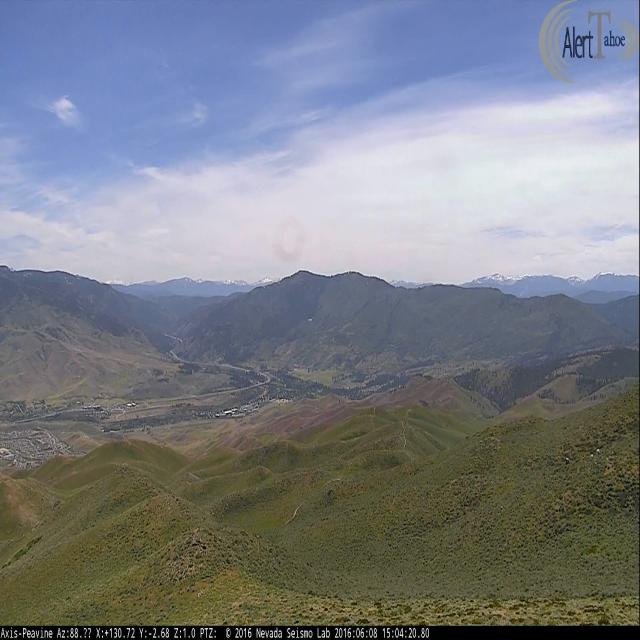smoke: (518, 288, 524, 297)
